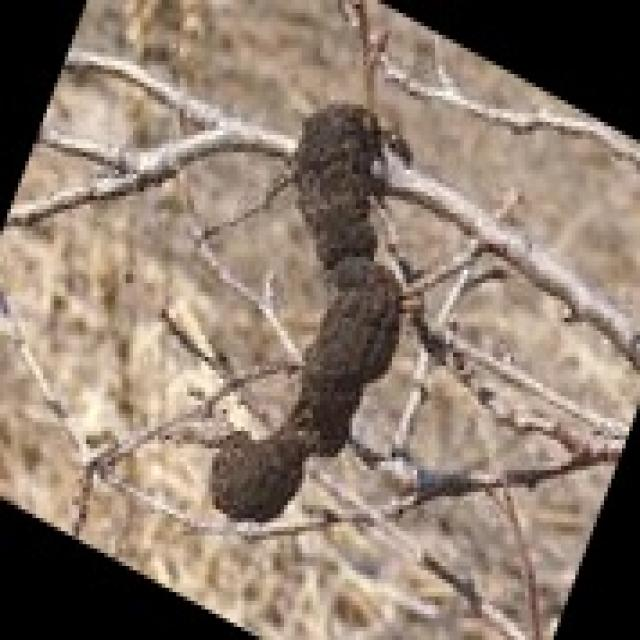Black_knot: (202, 96, 414, 522)
